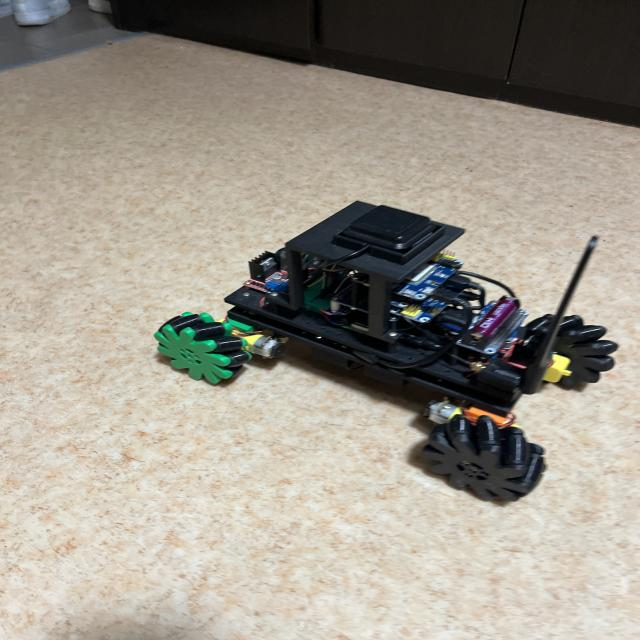robot: (154, 201, 617, 500)
